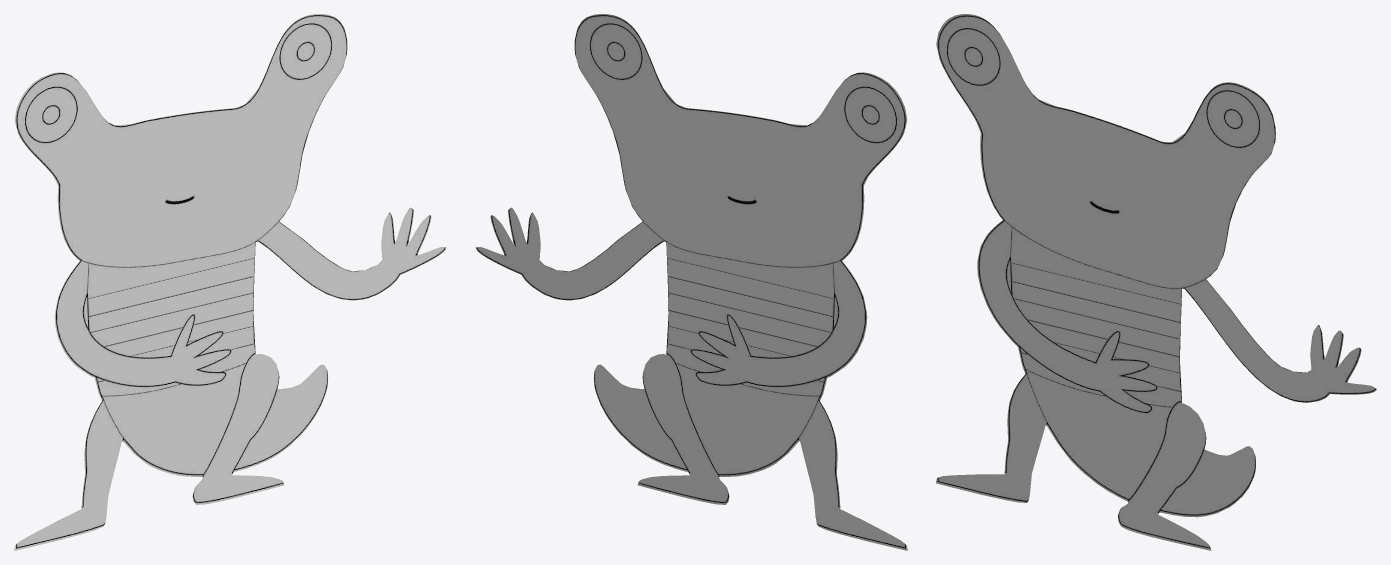
Rendered from 32_hori-01_fix.fbx.
3 renders of one model, left to right at view 1: azimuth 30°, elevation 25°; view 2: azimuth 150°, elevation 25°; view 3: azimuth 330°, elevation 25°, orthographic. The views are drawn at different scales.
Parts seen in each view (by area): view 1: planarTrimmedSurface7; view 2: planarTrimmedSurface7; view 3: planarTrimmedSurface7.
Boxes of the visible parts, x1=… form: planarTrimmedSurface7: x1=14, y1=14, x2=446, y2=550; planarTrimmedSurface7: x1=475, y1=14, x2=907, y2=550; planarTrimmedSurface7: x1=936, y1=14, x2=1376, y2=550.
Bounding box in the file's own units: 13.7 × 14.22 × 2.32e-06.
1 material, 1 textured.
